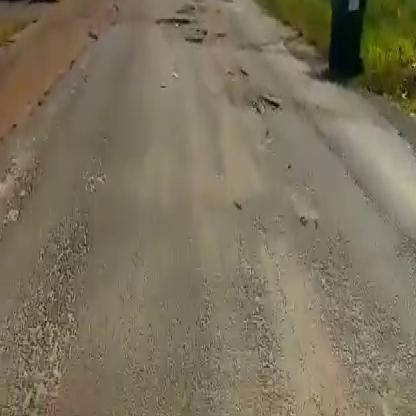pothole: (254, 94, 280, 115), (157, 15, 193, 30)
